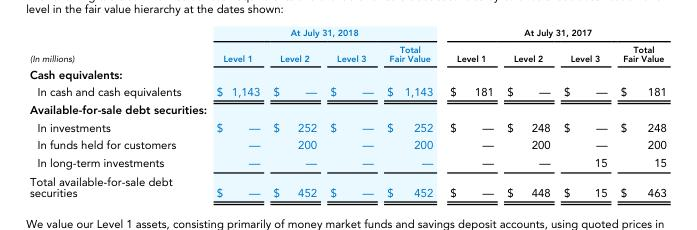table: (28, 28, 665, 199)
table column: (28, 28, 198, 199), (198, 28, 265, 199), (379, 28, 440, 199), (440, 28, 499, 199), (265, 28, 322, 199), (322, 28, 379, 199), (499, 28, 556, 199), (556, 28, 613, 199), (613, 28, 665, 199)
table column header: (28, 28, 665, 65)
table projected row header: (28, 65, 665, 83), (28, 101, 665, 118)
table row: (28, 172, 665, 199), (28, 41, 665, 65), (28, 65, 665, 83), (28, 83, 665, 101), (28, 118, 665, 136), (28, 136, 665, 154), (28, 154, 665, 172), (28, 101, 665, 118), (28, 28, 665, 41)
table spanning cell: (28, 28, 198, 65), (198, 28, 440, 41), (440, 28, 665, 41)
